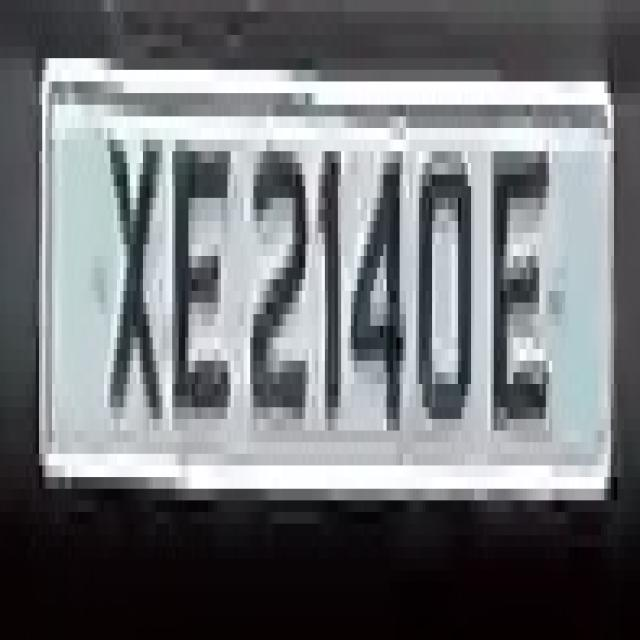0: (412, 81, 480, 454)
1: (315, 116, 348, 477)
2: (247, 105, 305, 465)
4: (344, 116, 419, 442)
E: (488, 128, 552, 477), (169, 105, 227, 454)
X: (104, 105, 172, 454)
